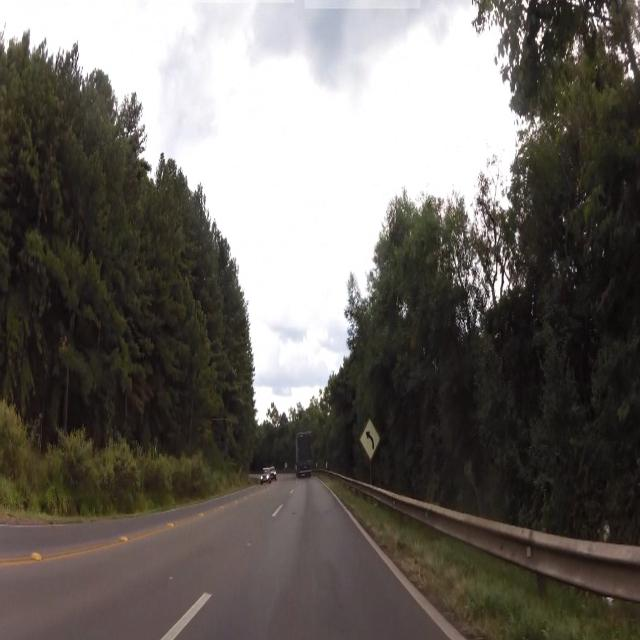A-2a: (360, 417, 387, 471)
